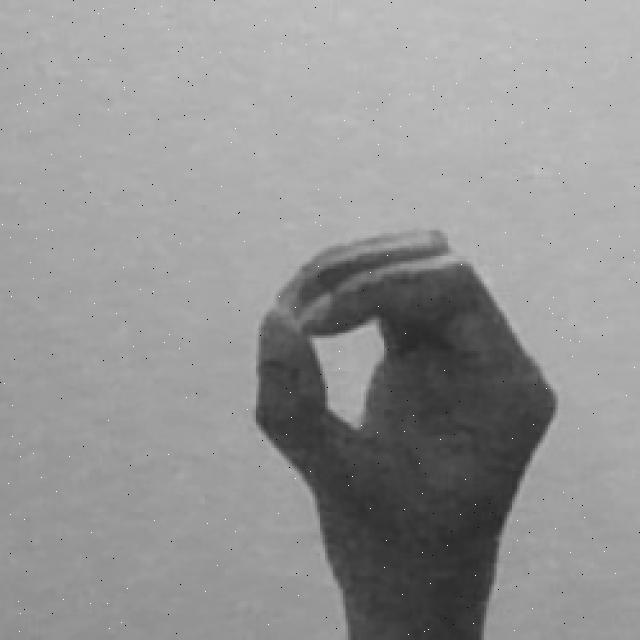O: (243, 222, 562, 640)
